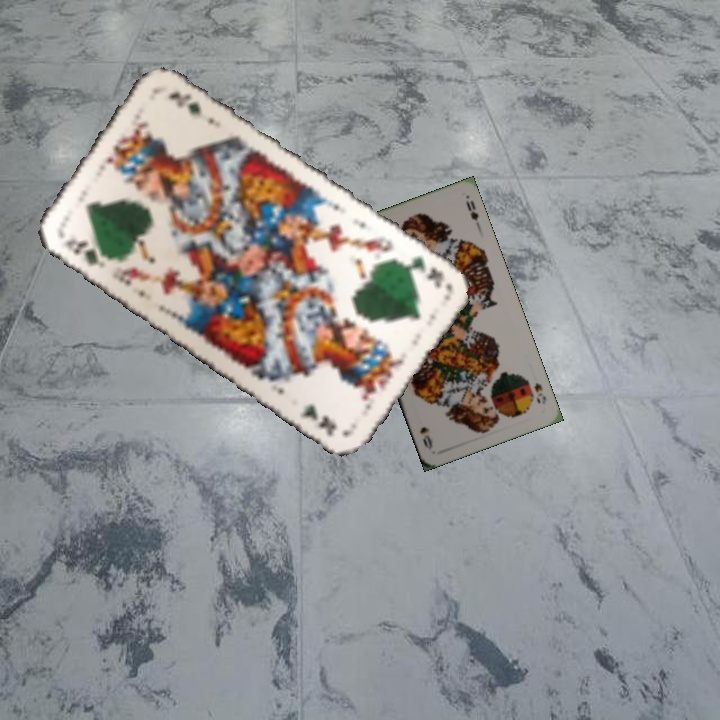GK: (394, 252, 447, 291), (61, 235, 112, 271)
SO: (530, 379, 549, 407)
